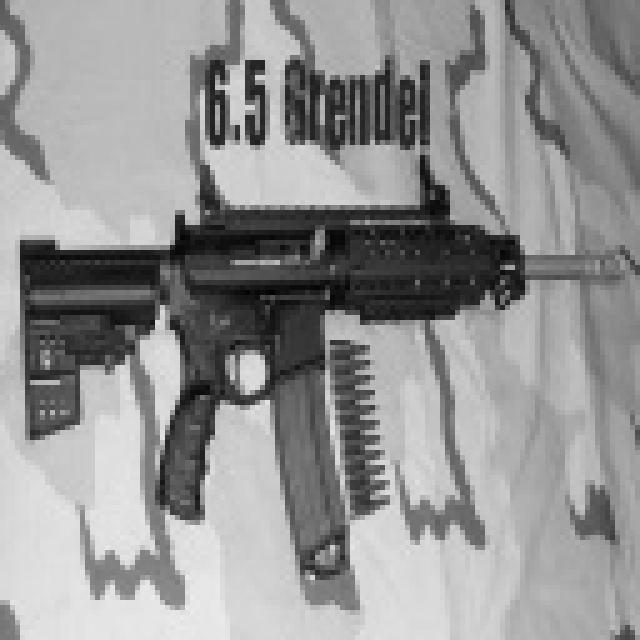Rifle: (0, 142, 640, 598)
